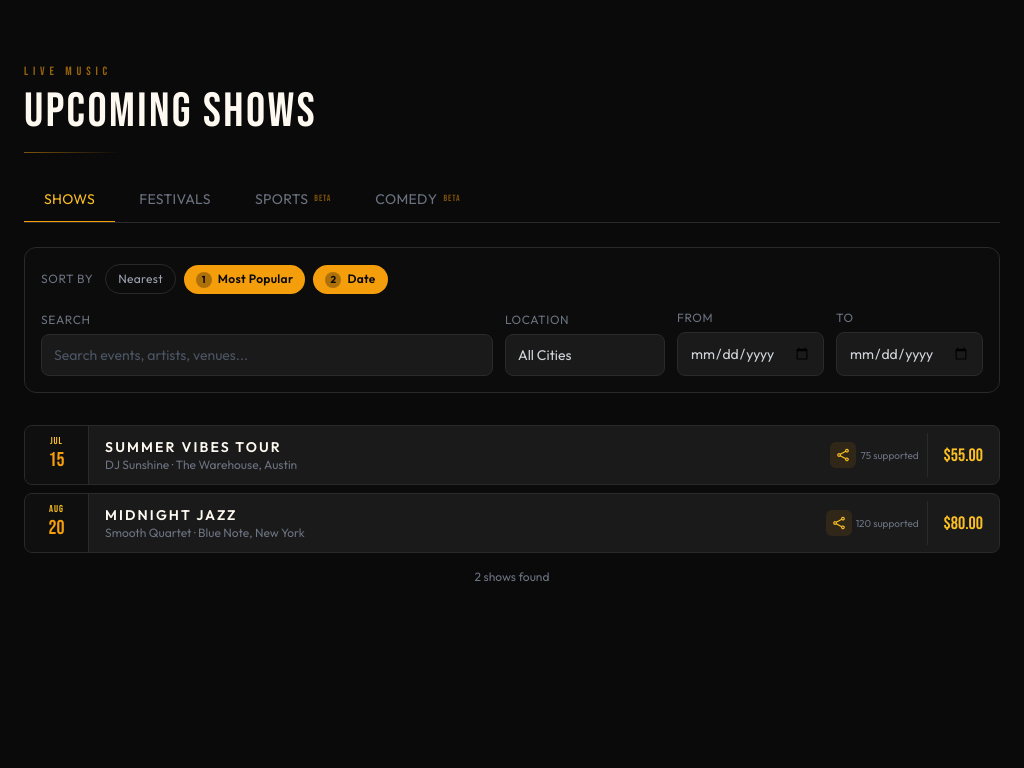
Test case: EventsPage › search › shows empty state when no results match
Expected: the heading "Summer Vibes Tour" is shown, x1=105 y1=438 x2=282 y2=456
In the field labelled "Search events": [267, 355] box x1=41 y1=334 x2=493 y2=376, type "Nonexistent City"
Then press Enter
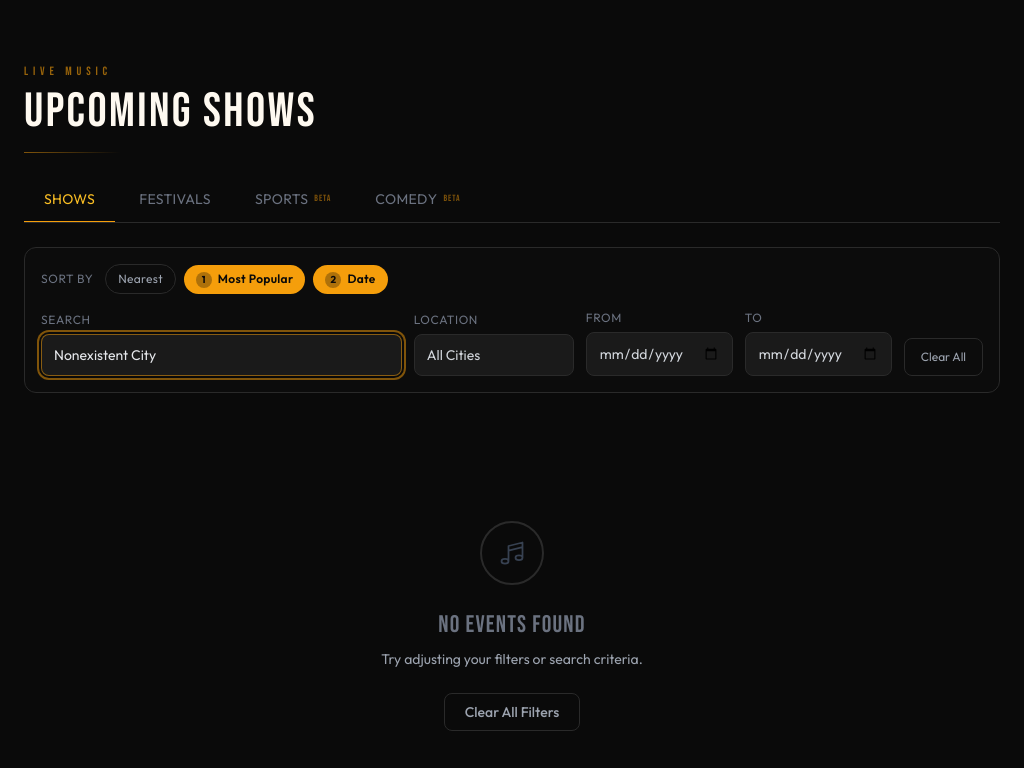
Now the heading "NO EVENTS FOUND" is shown, box x1=438 y1=609 x2=586 y2=641
